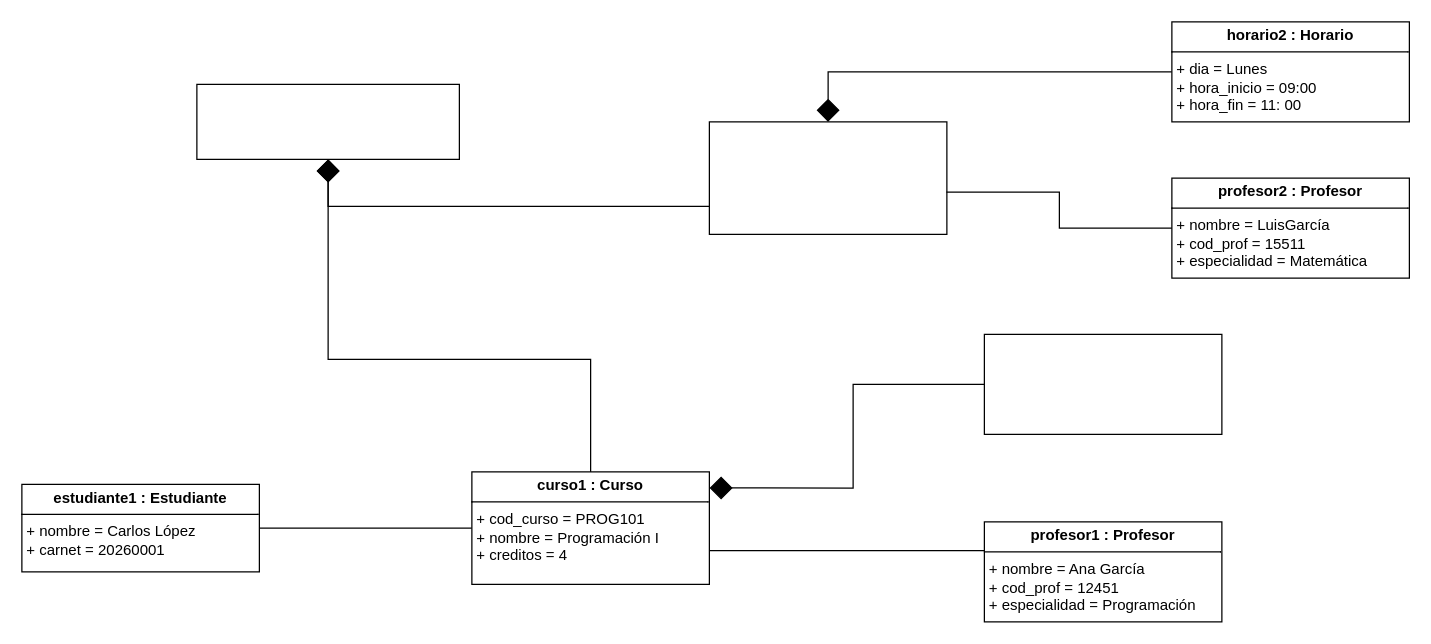
This 1431x644 diagram has some shape labels left out. The centre of each missing label's shape, as x and y in pixels:
"carrera1 : Carrera + nombre = Ingeniería en Sistemas" goes at point 327,121.
"curso2 : Curso + cod_curso = MAT101 + nombre = Matemática I + creditos = 5" goes at point 827,177.
"horario1 : Horario + dia = Lunes + hora_inicio = 08:00 + hora_fin = 10: 00" goes at point 1102,383.
